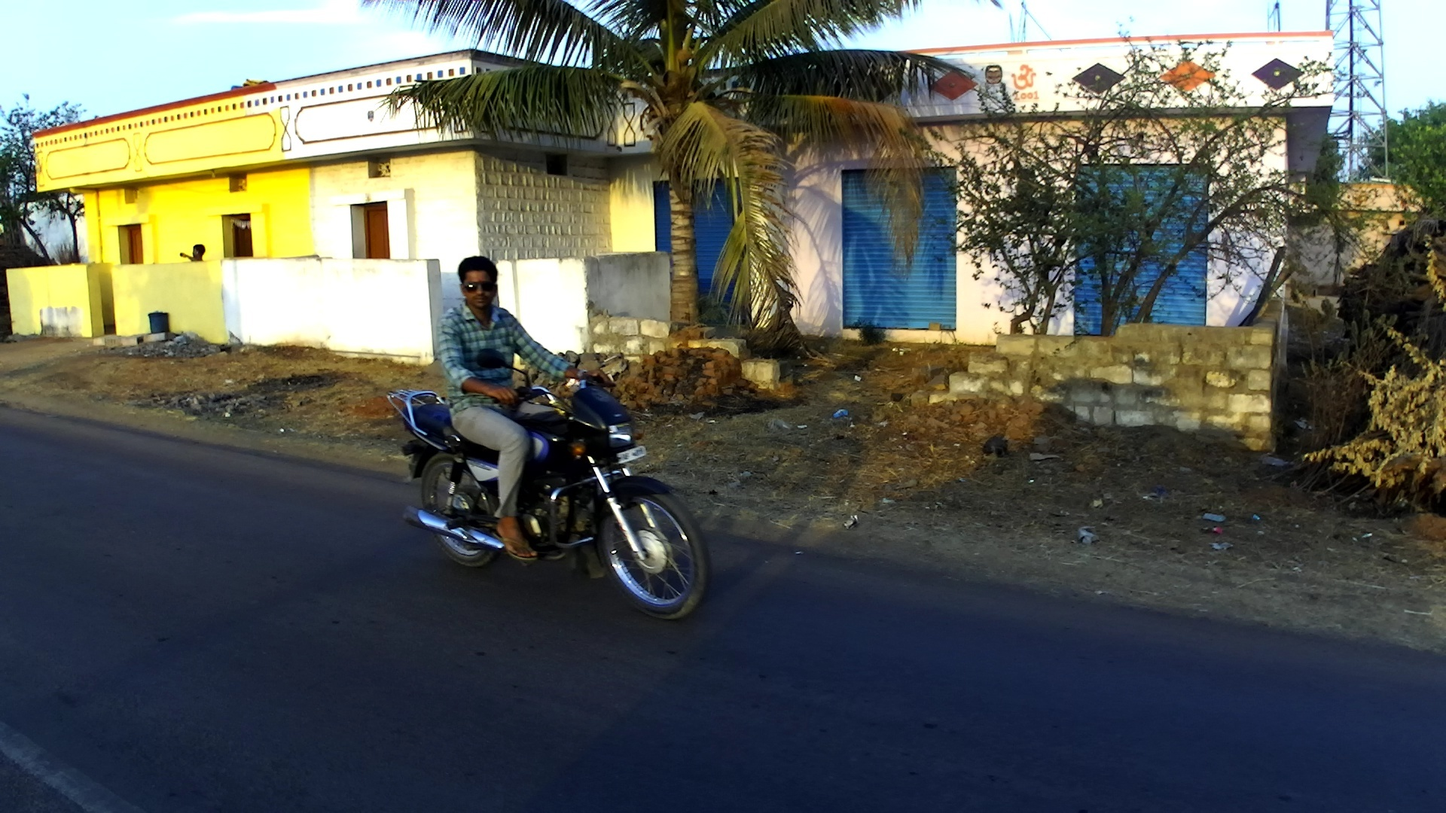motorcycle: (386, 350, 706, 626)
person: (178, 245, 209, 268)
rider: (438, 254, 621, 565)
